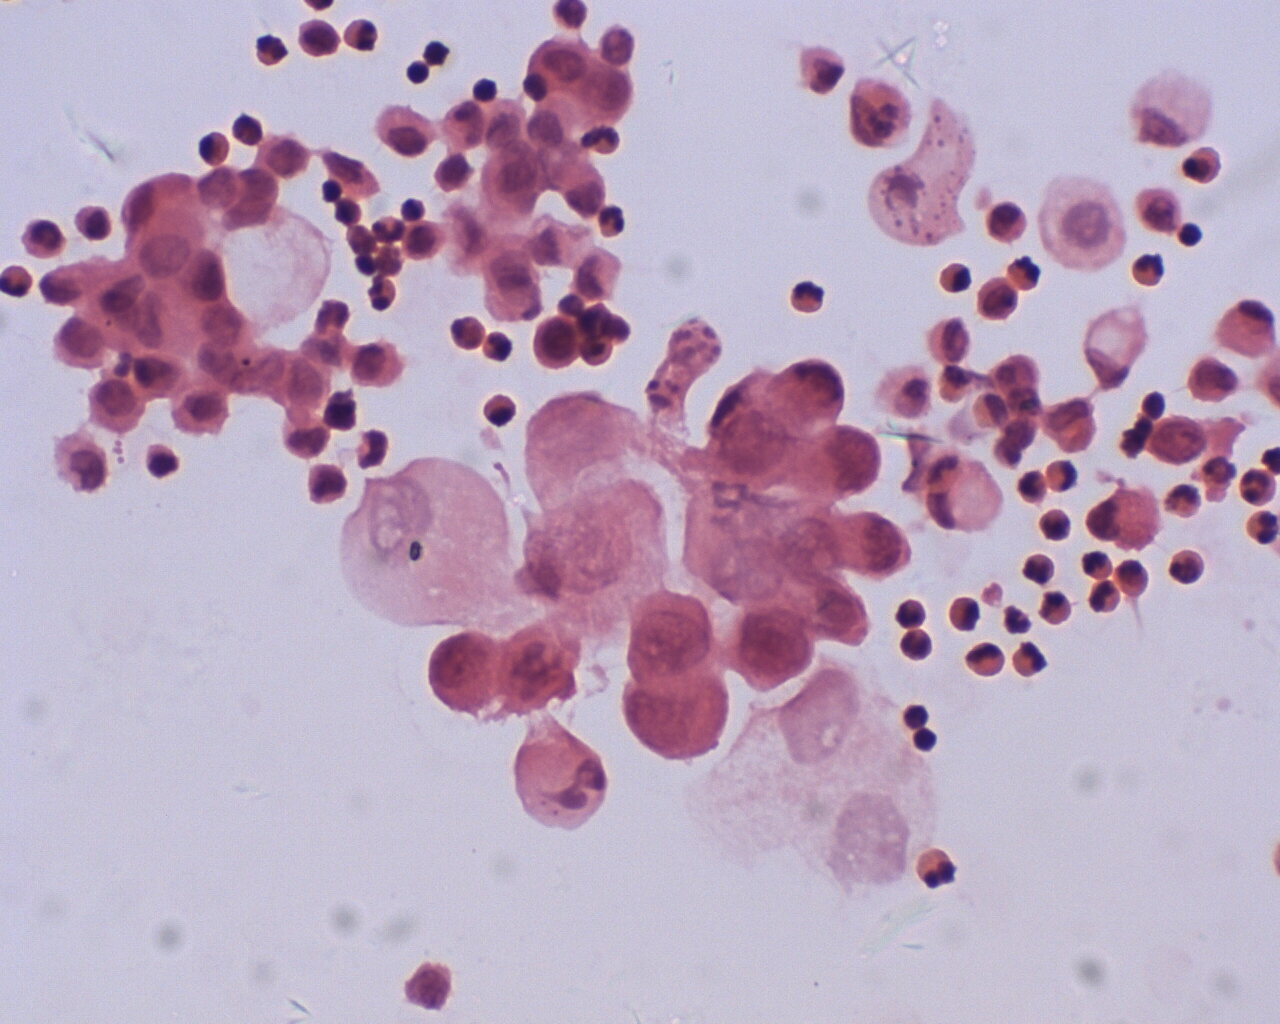ab: (615, 672, 726, 761), (623, 587, 711, 686), (732, 603, 814, 693), (502, 629, 582, 719), (426, 631, 504, 722), (837, 505, 911, 581), (806, 425, 879, 499), (774, 358, 847, 432), (796, 580, 869, 649), (1145, 415, 1207, 466), (523, 315, 581, 369)
lymph: (1177, 220, 1202, 247)
meso: (85, 377, 145, 433)
neutro: (18, 220, 67, 259), (1238, 465, 1278, 509), (339, 17, 380, 53), (968, 642, 1007, 677), (788, 280, 827, 315), (1013, 641, 1047, 677), (481, 392, 515, 427), (936, 261, 973, 294), (1089, 580, 1121, 616), (200, 130, 232, 165), (1035, 591, 1070, 624), (1131, 251, 1162, 285), (903, 630, 933, 660)
